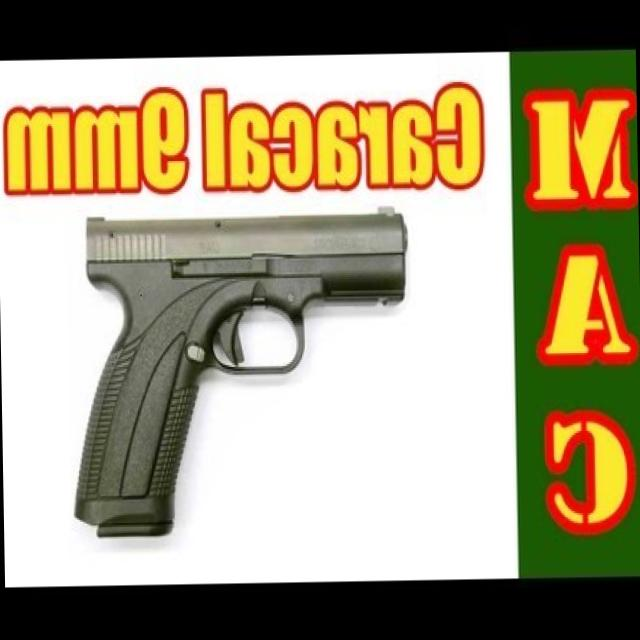Gun: (21, 194, 418, 564)
